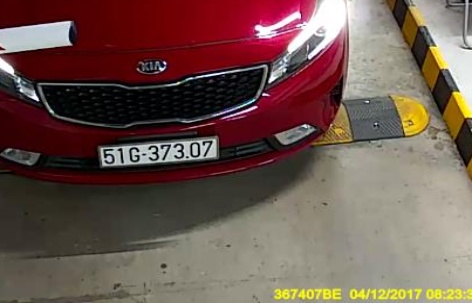plate: (97, 134, 225, 167)
